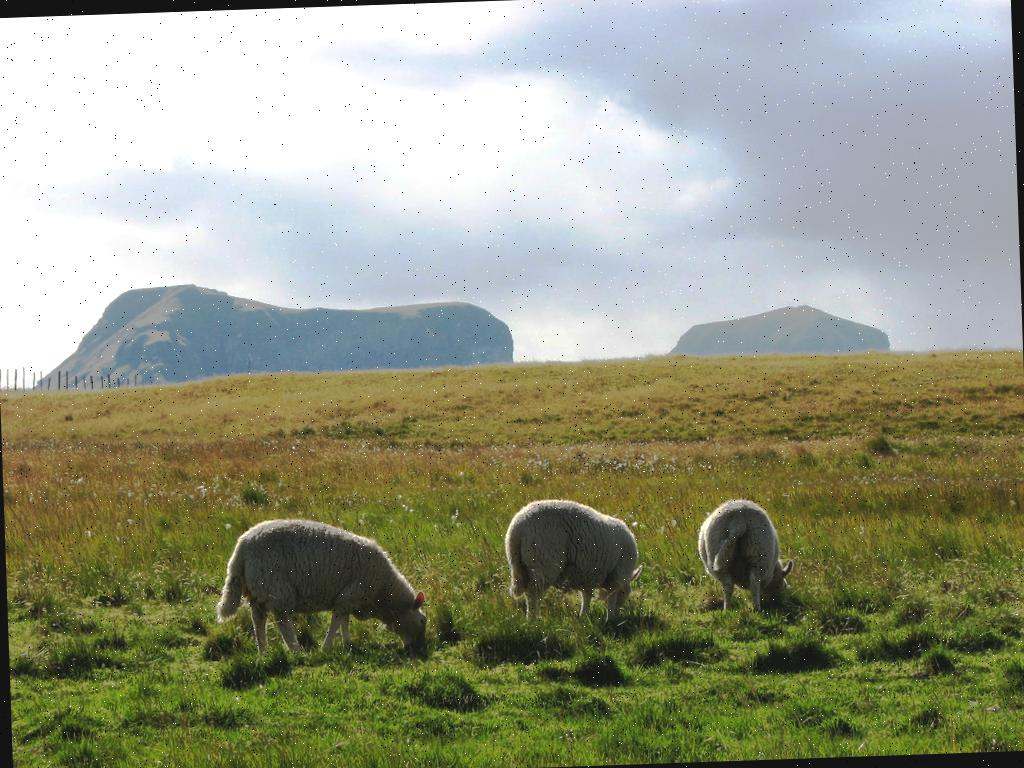Sheep: (214, 516, 426, 664), (506, 495, 642, 625), (692, 496, 790, 616)
